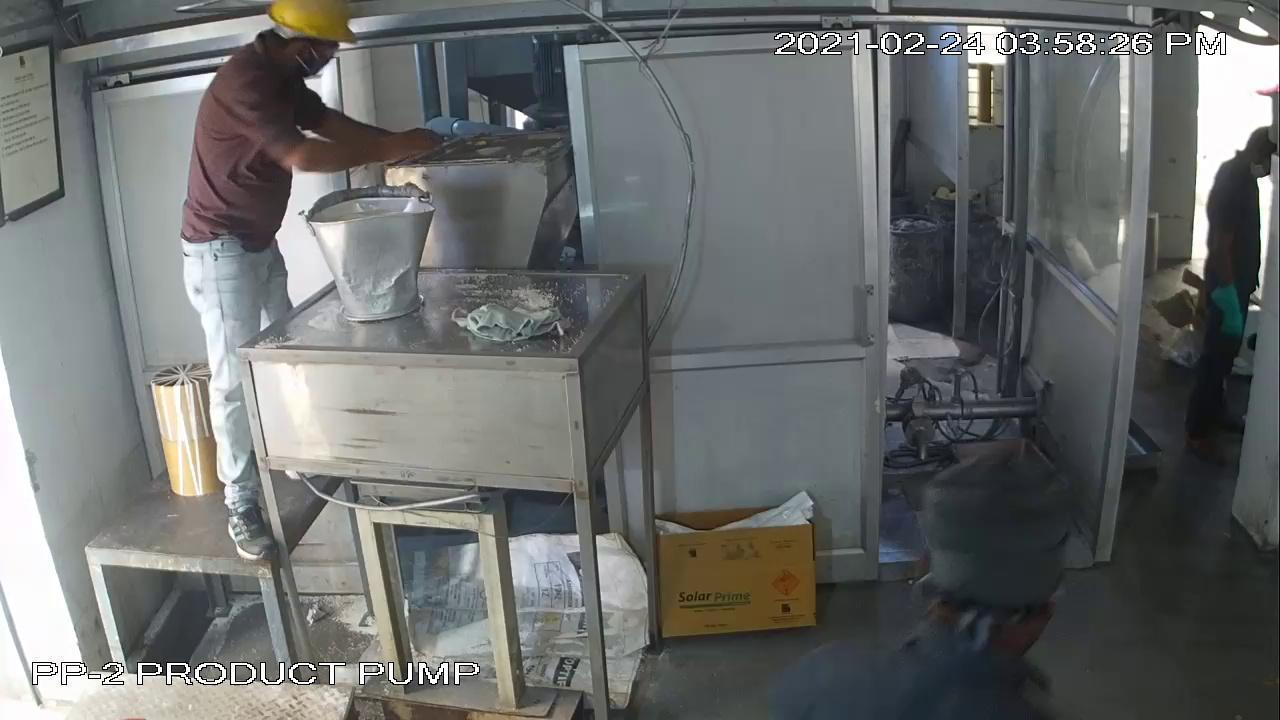helmet: (258, 1, 368, 52)
